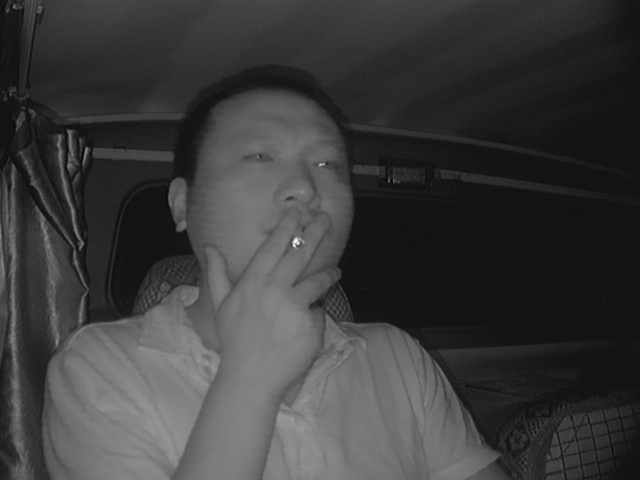hand: (255, 208, 339, 318)
